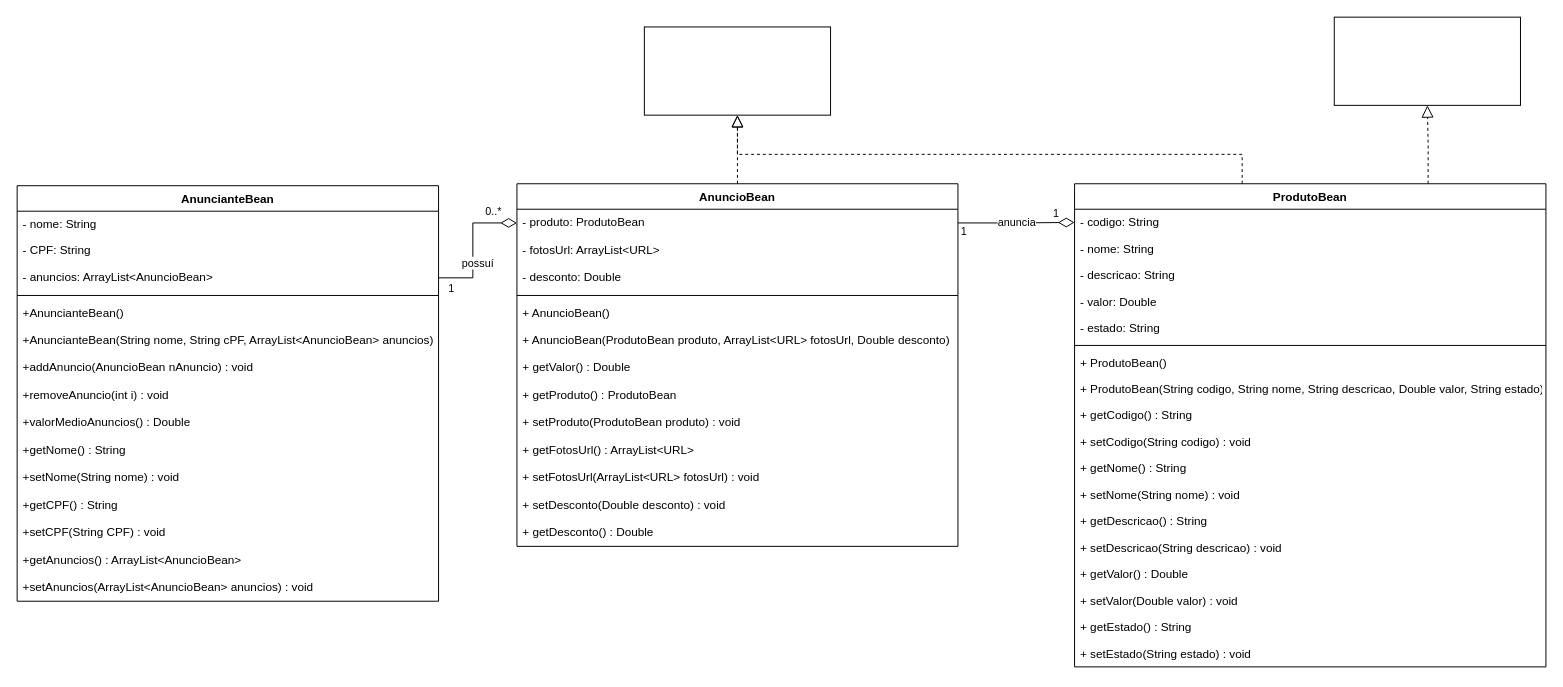
The diagram is 1563 pixels wide and 687 high, and some of its shapes have lost their labels. Here are the shapes that lost their labels. From the top down, the centre of each, then its label:
At point 737,70: "<<Interface>> Serializable".
At point 1426,60: "<<Interface>> Comparable<T> + compareTo(T o) : int".
